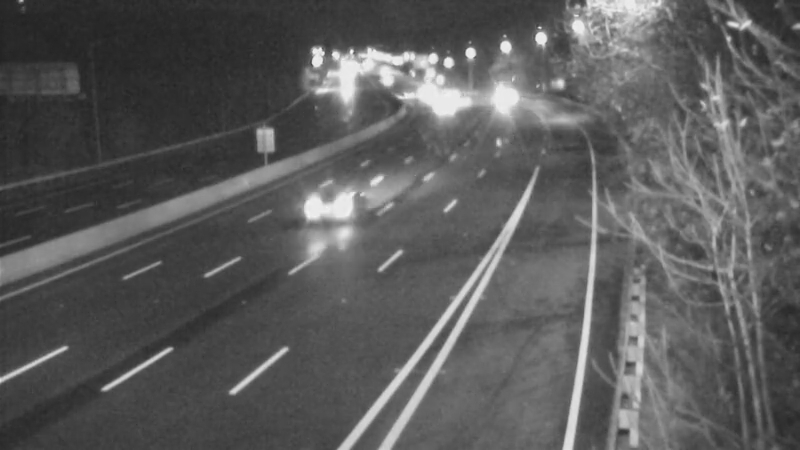vehicle: (294, 168, 374, 248), (469, 71, 519, 121), (420, 84, 470, 134)
